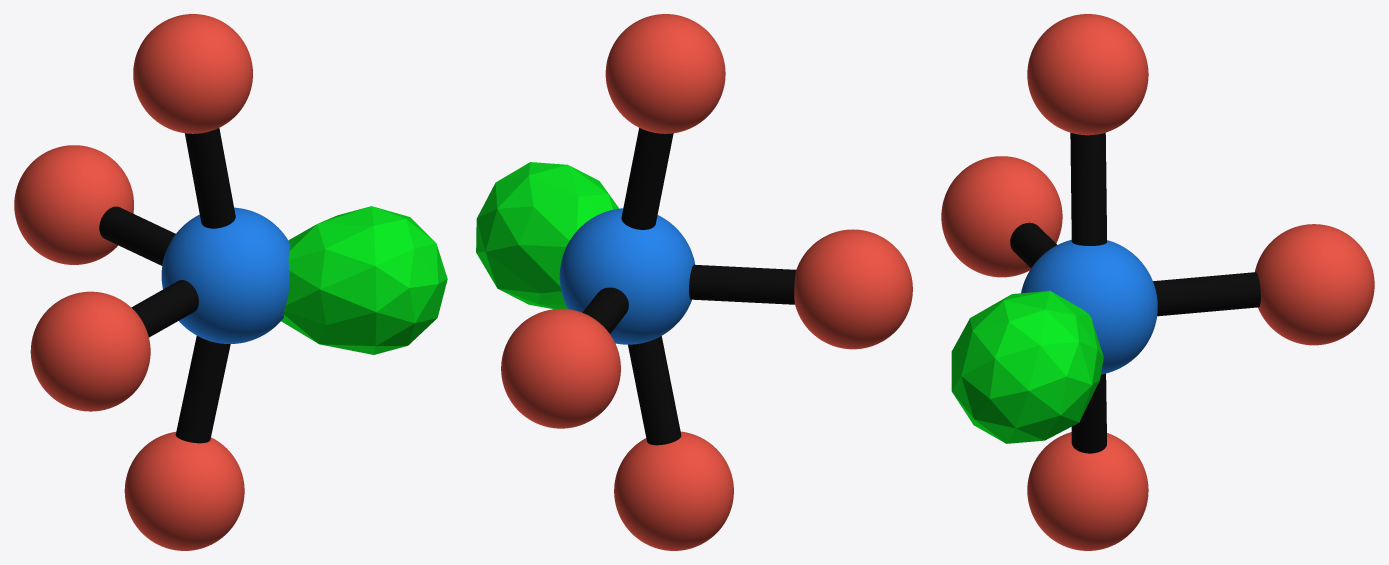
Rendered from chem stru_tbp_see-saw_1lp.glb.
3 renders of one model, left to right at view 1: azimuth 30°, elevation 25°; view 2: azimuth 150°, elevation 25°; view 3: azimuth 270°, elevation 25°, orthographic.
Visible parts, largest first — view 1: Icosphere, Sphere, Sphere.002, Sphere.004, Sphere.005, Sphere.001, Cylinder.004, Cylinder.003, Cylinder, Cylinder.002; view 2: Icosphere, Sphere, Sphere.004, Sphere.001, Sphere.002, Sphere.005, Cylinder.002, Cylinder.004, Cylinder.003, Cylinder; view 3: Icosphere, Sphere.004, Sphere.001, Sphere.005, Sphere.002, Sphere, Cylinder.003, Cylinder, Cylinder.004, Cylinder.002.
Boxes of the visible parts, x1=… form: Icosphere: x1=281, y1=206, x2=447, y2=354; Sphere: x1=161, y1=207, x2=290, y2=343; Sphere.002: x1=30, y1=291, x2=150, y2=411; Sphere.004: x1=133, y1=14, x2=252, y2=133; Sphere.005: x1=124, y1=432, x2=244, y2=550; Sphere.001: x1=14, y1=145, x2=133, y2=264; Cylinder.004: x1=175, y1=336, x2=230, y2=443; Cylinder.003: x1=185, y1=128, x2=235, y2=228; Cylinder: x1=99, y1=206, x2=175, y2=265; Cylinder.002: x1=131, y1=280, x2=198, y2=337; Icosphere: x1=476, y1=162, x2=618, y2=309; Sphere: x1=559, y1=208, x2=695, y2=344; Sphere.004: x1=605, y1=14, x2=725, y2=133; Sphere.001: x1=501, y1=308, x2=620, y2=428; Sphere.002: x1=794, y1=229, x2=912, y2=349; Sphere.005: x1=614, y1=431, x2=733, y2=550; Cylinder.002: x1=689, y1=264, x2=795, y2=304; Cylinder.004: x1=628, y1=336, x2=681, y2=445; Cylinder.003: x1=621, y1=128, x2=673, y2=229; Cylinder: x1=582, y1=287, x2=628, y2=333; Icosphere: x1=951, y1=291, x2=1103, y2=443; Sphere.004: x1=1027, y1=14, x2=1148, y2=135; Sphere.001: x1=1255, y1=224, x2=1374, y2=345; Sphere.005: x1=1027, y1=432, x2=1148, y2=550; Sphere.002: x1=941, y1=156, x2=1062, y2=277; Sphere: x1=1021, y1=240, x2=1157, y2=374; Cylinder.003: x1=1070, y1=132, x2=1106, y2=245; Cylinder: x1=1153, y1=272, x2=1260, y2=316; Cylinder.004: x1=1071, y1=373, x2=1106, y2=453; Cylinder.002: x1=1010, y1=222, x2=1056, y2=267.
Size of the model in its own units: 3.14 by 3.84 by 2.85.
